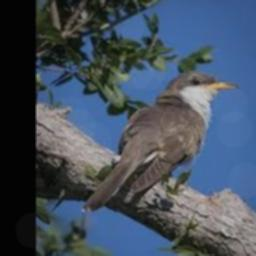Cuckoo: (82, 72, 239, 213)
